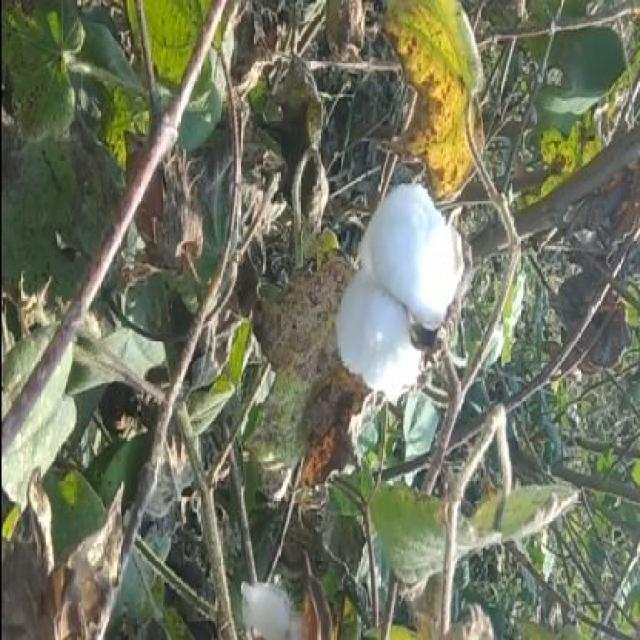cotton_ready: (333, 181, 475, 424)
